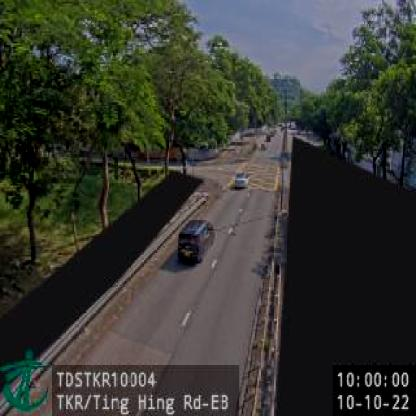Car: (176, 219, 213, 264), (232, 175, 247, 189)
